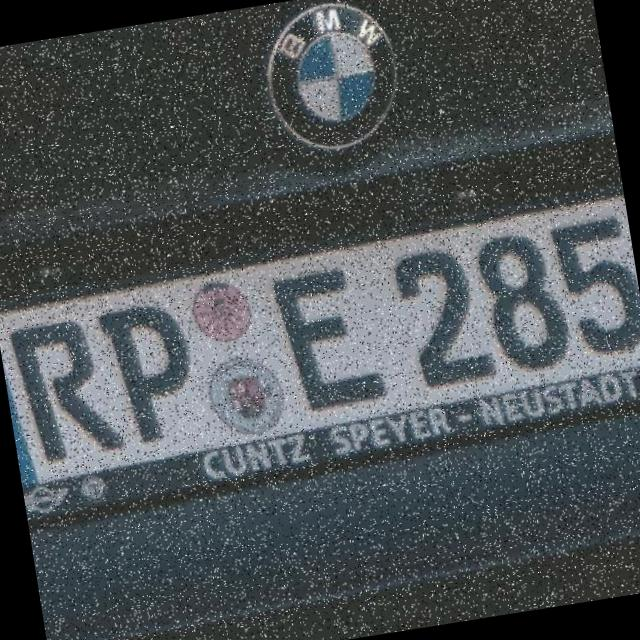LicensePlate: (0, 184, 640, 529)
